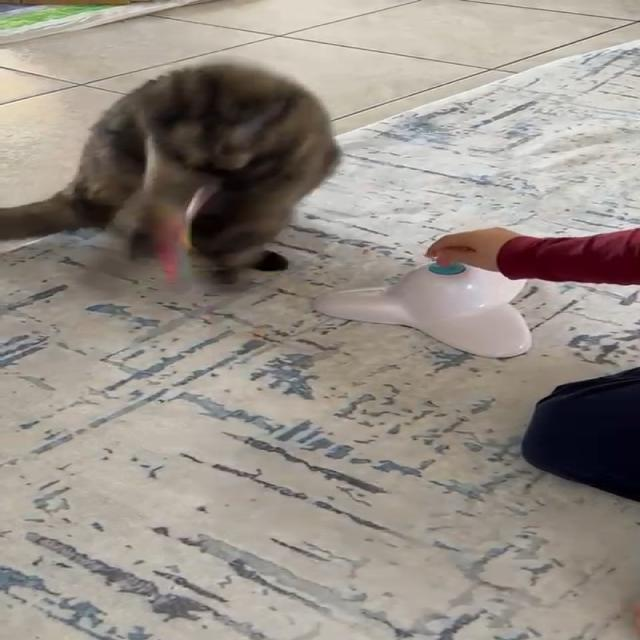authorized: (0, 62, 343, 287)
